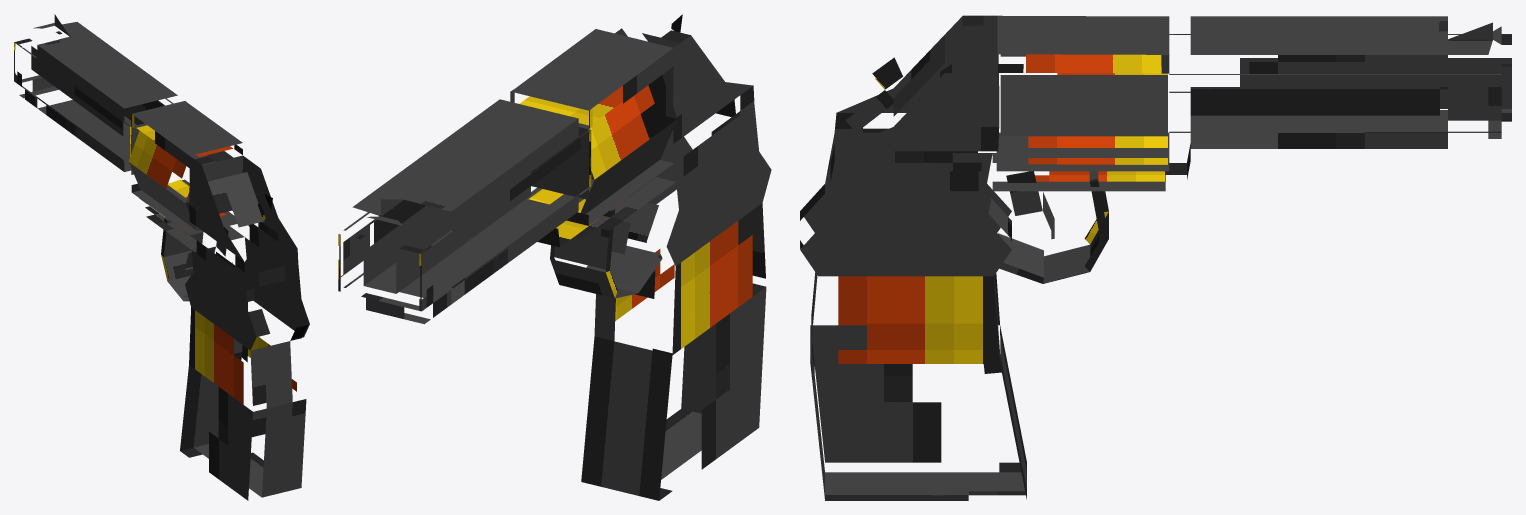
Rendered from Magnum.obj.
The picture shows the model from 3 angles, left to right: view 1: azimuth 30°, elevation 25°; view 2: azimuth 150°, elevation 25°; view 3: azimuth 270°, elevation 25°; orthographic projection. The views are drawn at different scales.
Parts seen in each view (by area): view 1: Revolver_Cube; view 2: Revolver_Cube; view 3: Revolver_Cube.
Boxes of the visible parts, <box> form: Revolver_Cube: <box>14,14,309,500</box>; Revolver_Cube: <box>338,14,771,500</box>; Revolver_Cube: <box>800,15,1511,500</box>.
Bounding box in the file's own units: 0.7331 × 3.47 × 4.83.
